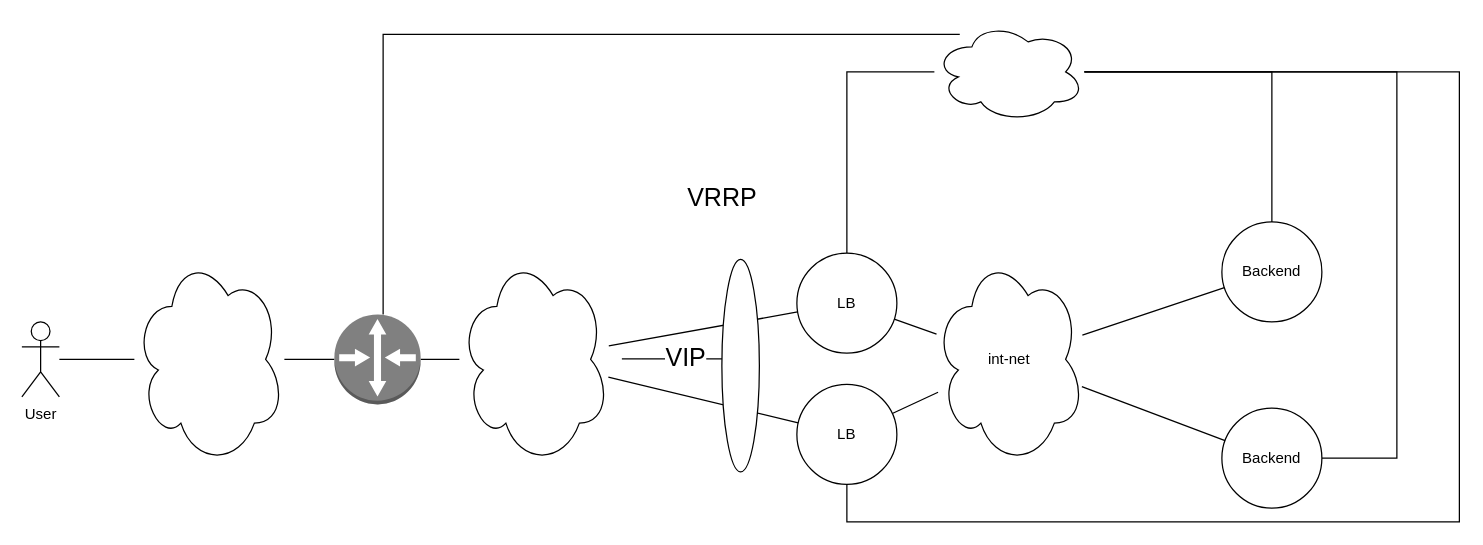
Image size: 1483x545. Some labels were removed from this diagram. The shapes that lost their labels are listed below. From the top down, each one's centre as x and y in pixels, then its label:
At (x=1008, y=71): "mgmt".
At (x=208, y=359): "ext-net".
At (x=533, y=359): "net".
